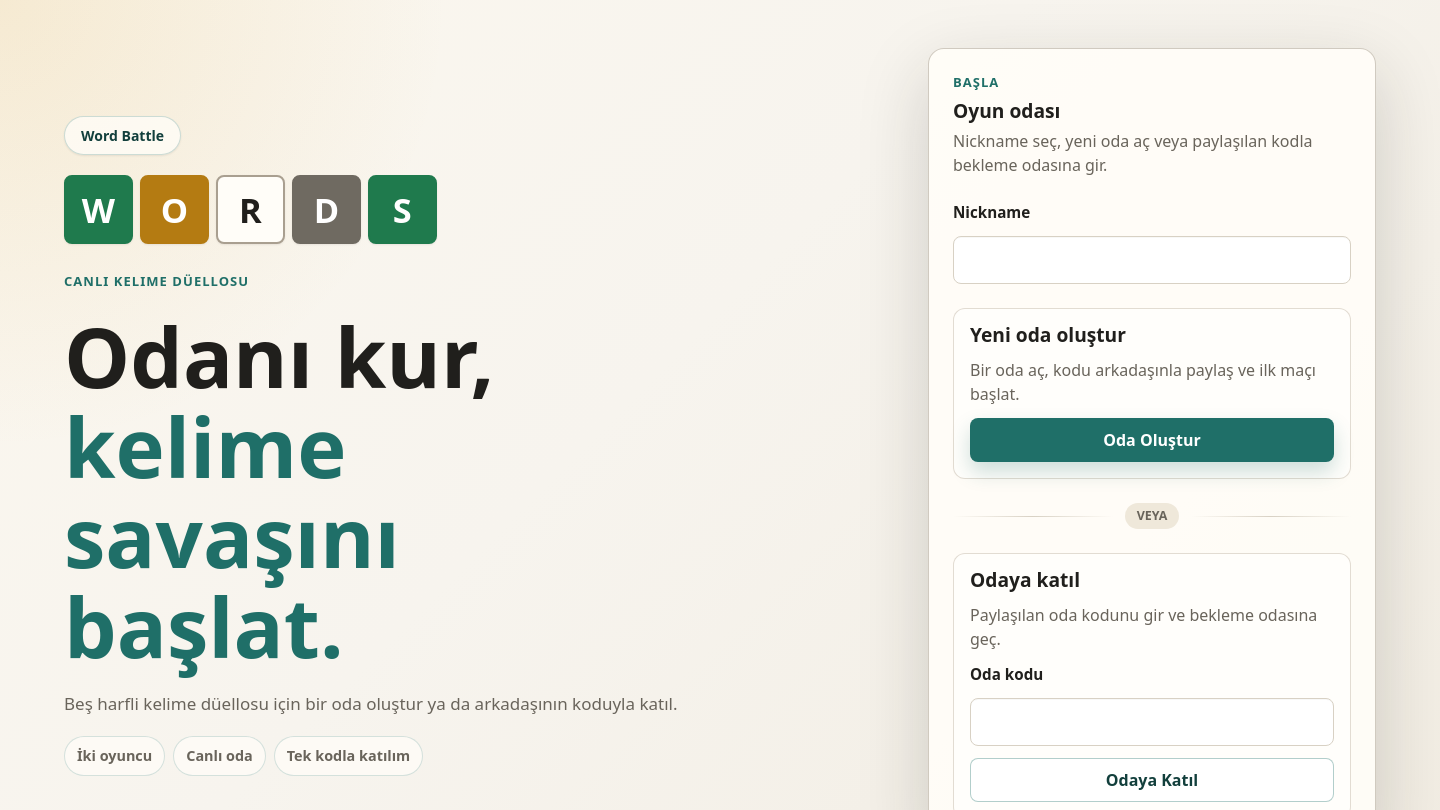
Scenario: HomePage › blocks duplicate join submits while loading
Type "Bora" into the field labelled "Nickname" at (1152, 260), box [953,236,1351,284]
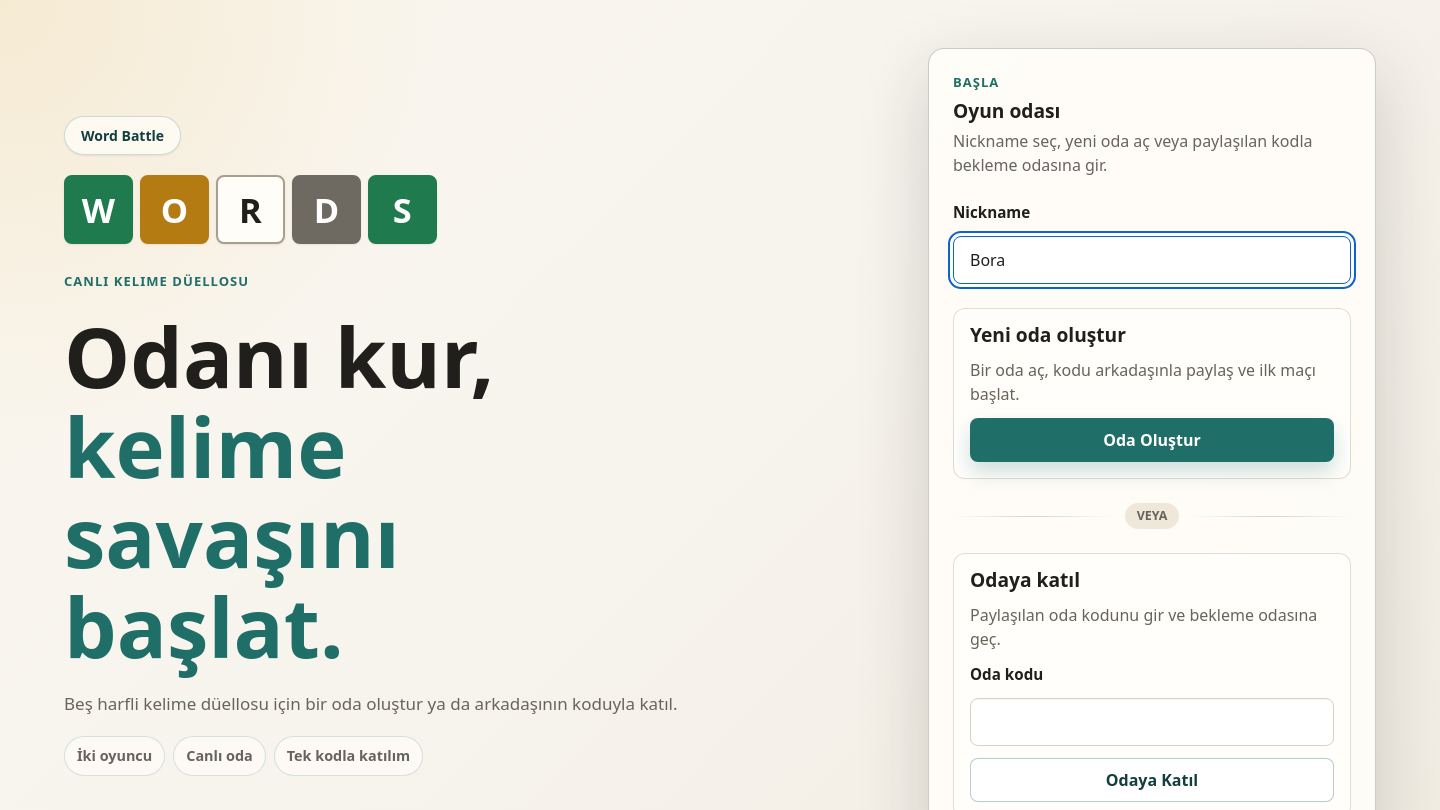
Type "ABC123" into the field labelled "Oda kodu" at (1152, 722), box [970,698,1334,746]
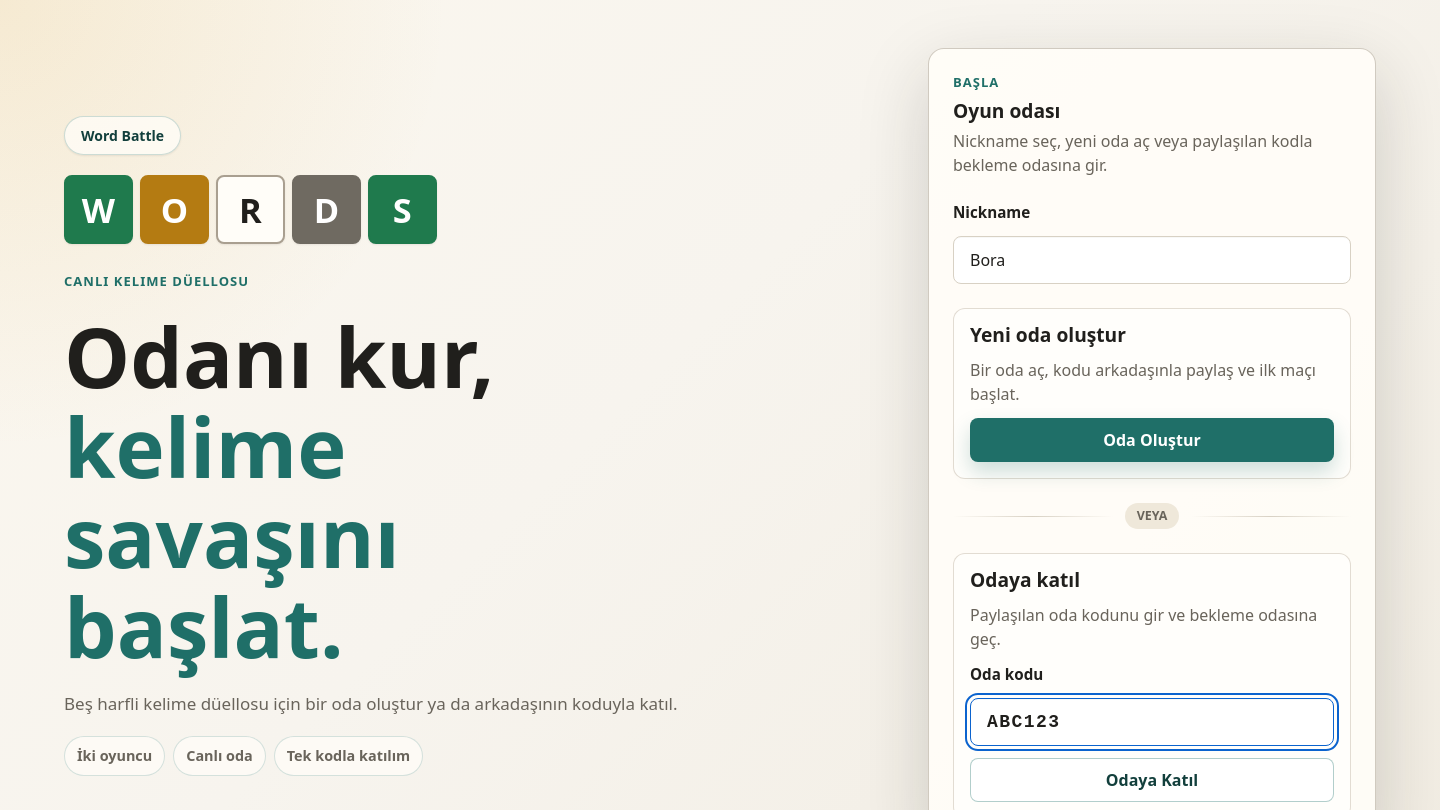
Double-click the button "Odaya Katıl" at (1152, 780), box [970,758,1334,802]
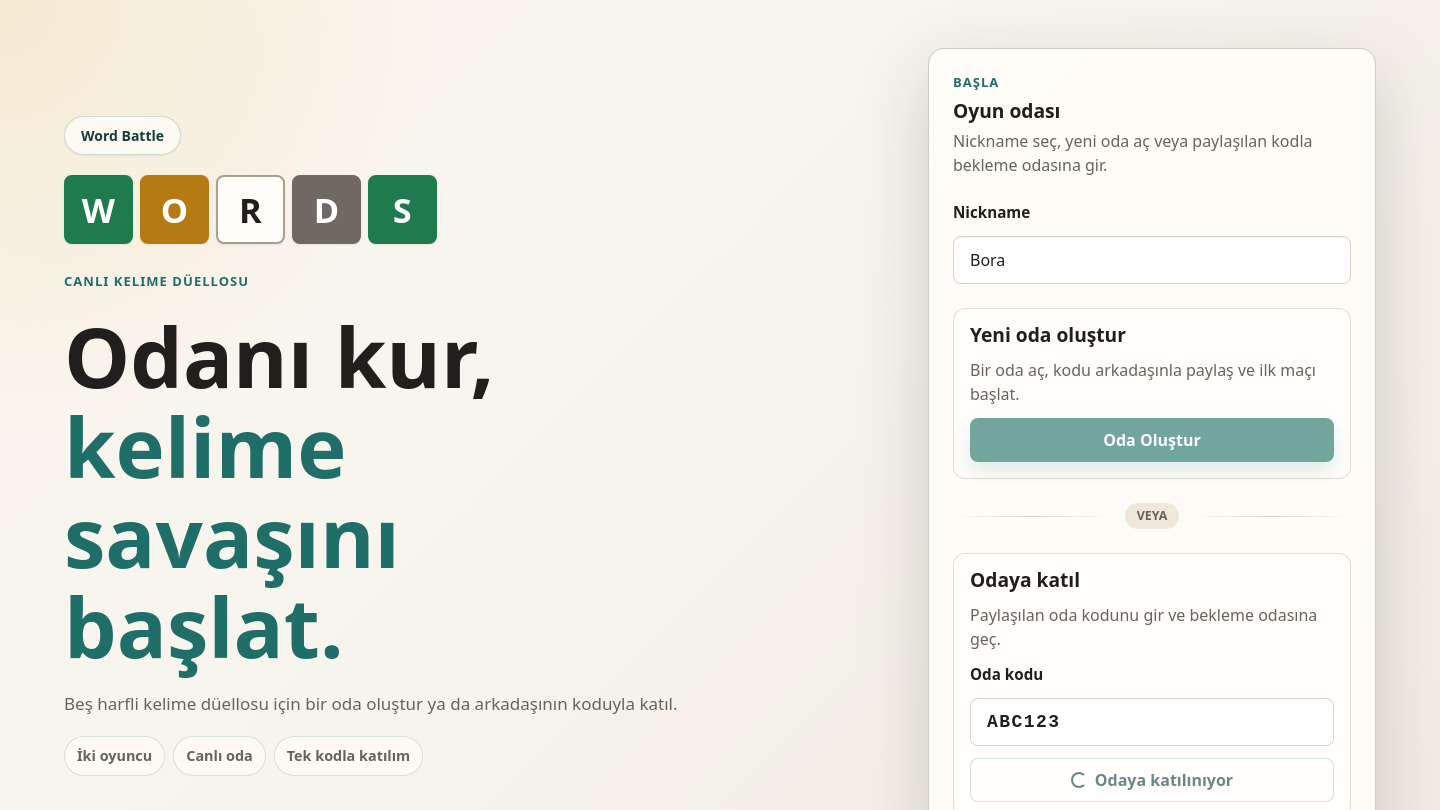
Check: the button "Odaya katılınıyor" is disabled, box [970,758,1334,802]
Check: the button "Oda Oluştur" is disabled, box [970,418,1334,462]
